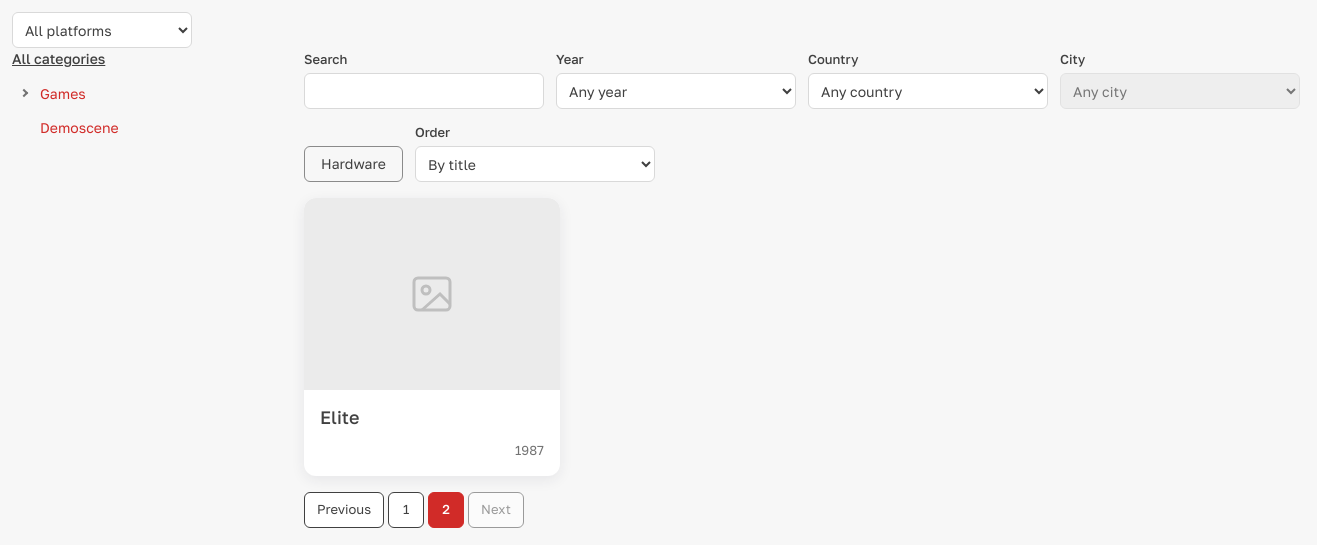
Test: SoftwareCatalog › goes to the first page of the keyword once the visitor stops typing
In the search field labelled "Search": coordinates (424, 91) [304,73,544,109], type "exo"
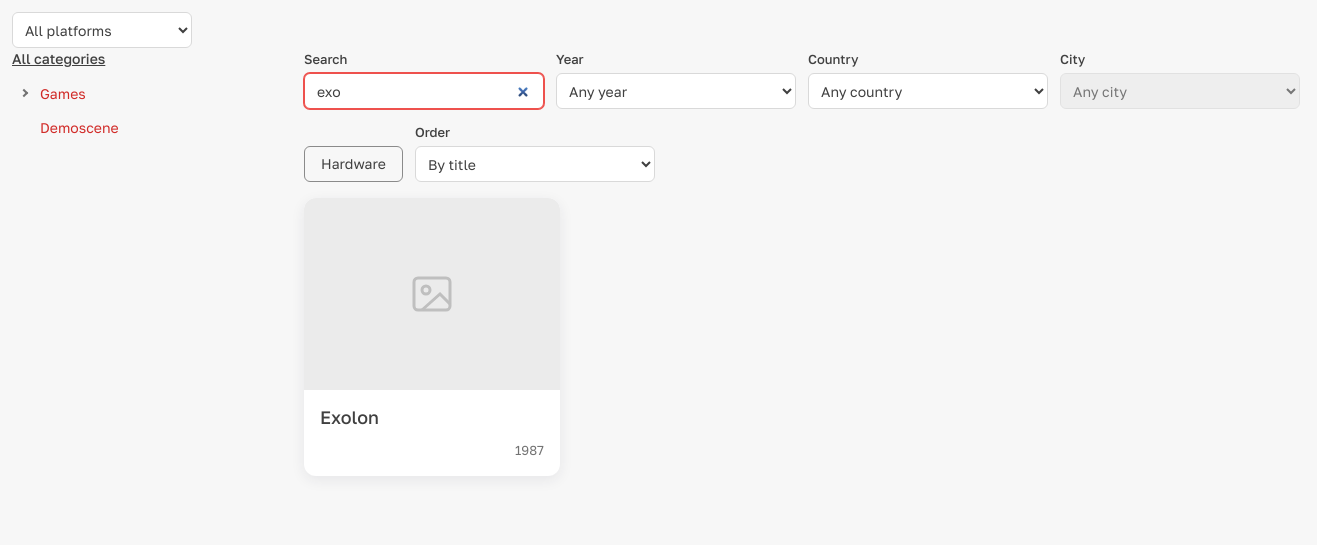
Check: the element "Exolon" is shown, box [304,198,560,476]
